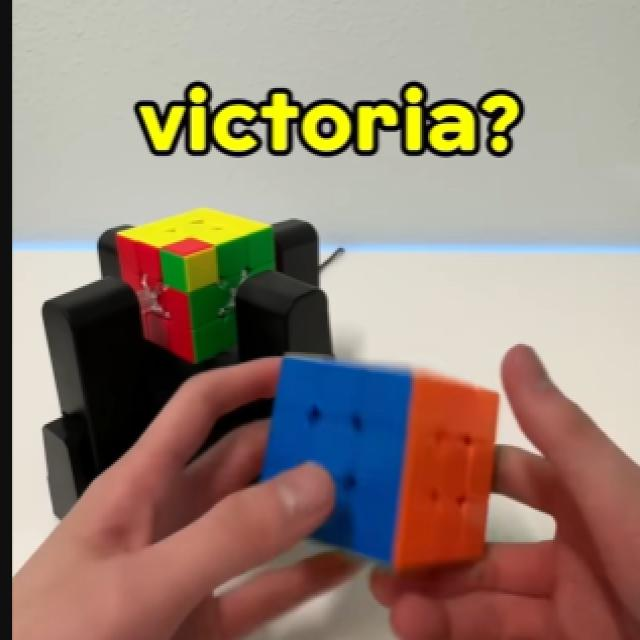Cubo-No-resuelto: (117, 208, 275, 362)
Cubo-Resuelto: (262, 356, 497, 570)
